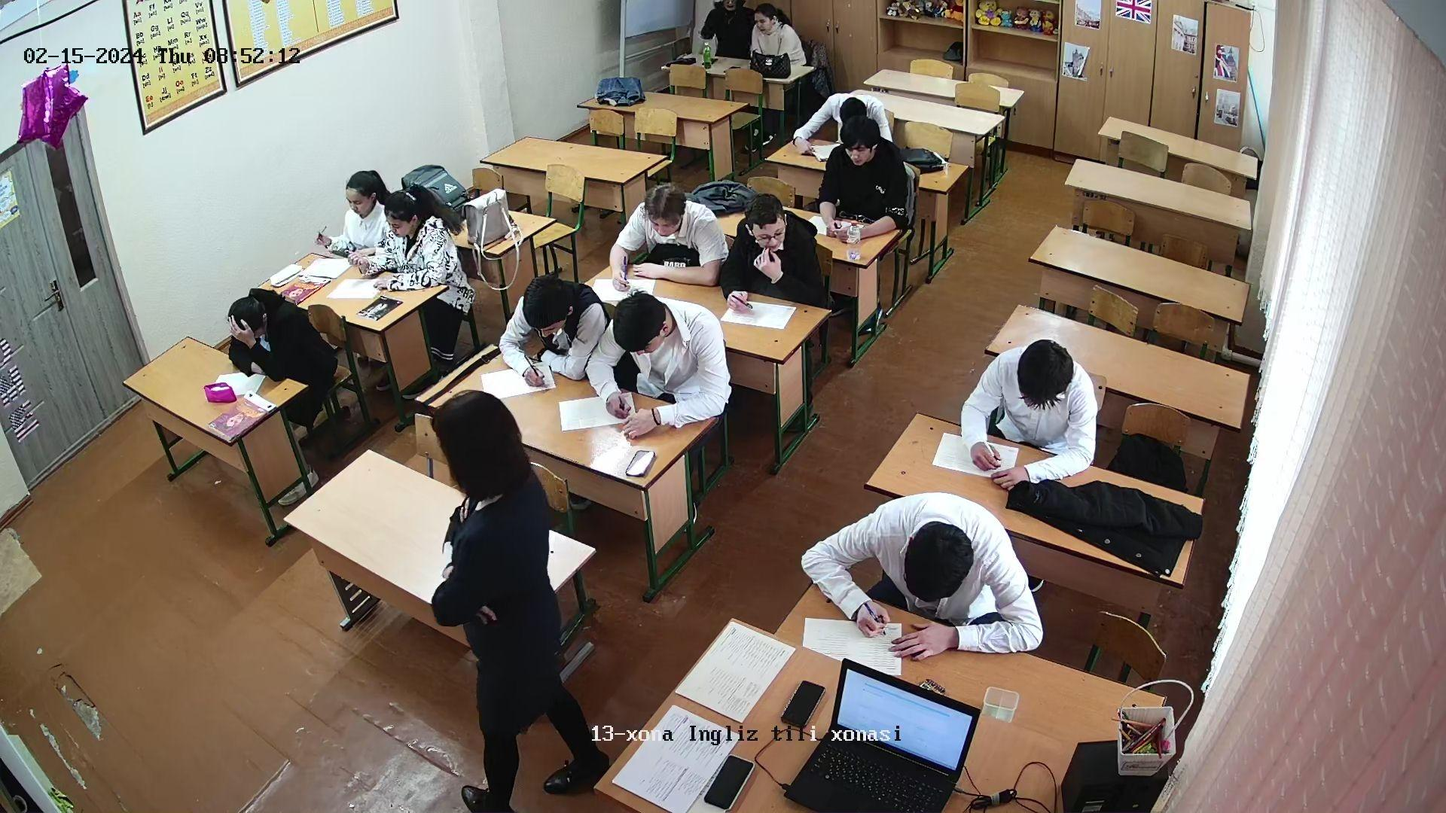Look Around: (731, 201, 821, 300)
Normal: (822, 500, 1030, 659), (944, 321, 1127, 480), (599, 300, 730, 429), (488, 268, 599, 400), (609, 180, 723, 292), (823, 125, 906, 232), (316, 166, 389, 266), (379, 199, 437, 283), (749, 0, 807, 66), (219, 381, 224, 383)
Stand Up: (431, 411, 577, 805)
Wave: (220, 317, 271, 387)
